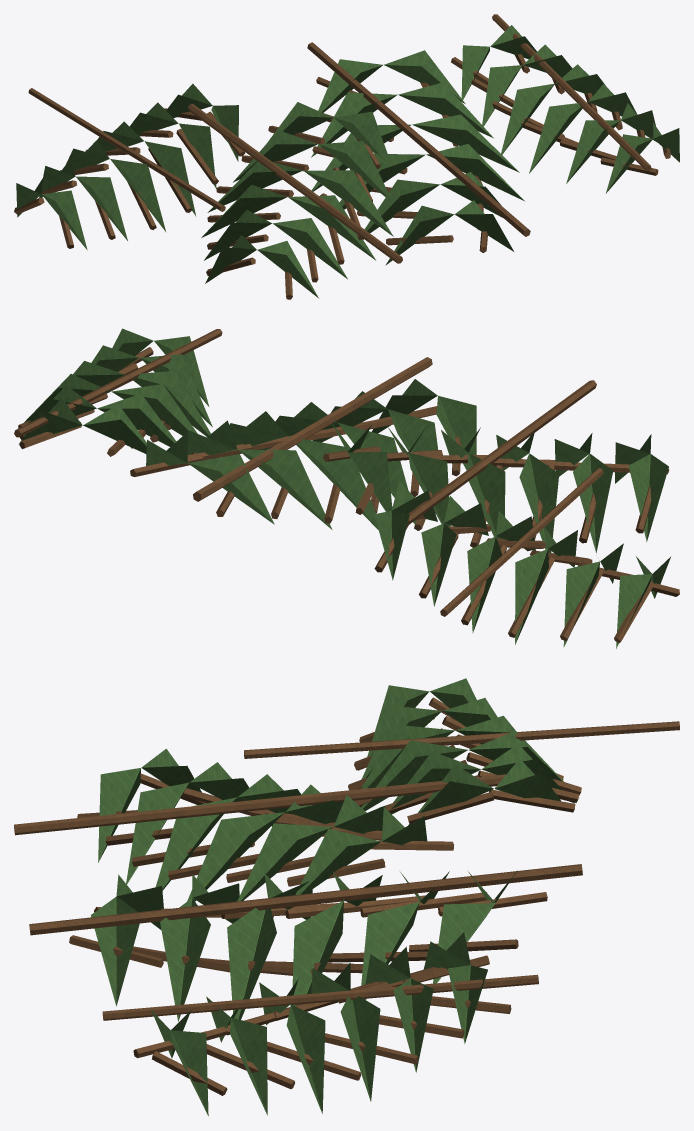
Rendered from en-008_palm_frond_ground_clutter__small.obj.
3 views of the same model, one above another, from view 1: azimuth 30°, elevation 25°; view 2: azimuth 150°, elevation 25°; view 3: azimuth 270°, elevation 25° (orthographic). The views are drawn at different scales.
Visible parts, largest first — view 1: en-008_palm_frond_ground_clutter__small; view 2: en-008_palm_frond_ground_clutter__small; view 3: en-008_palm_frond_ground_clutter__small.
Part boxes in pixels (<box>): en-008_palm_frond_ground_clutter__small: <box>14,14,679,299</box>; en-008_palm_frond_ground_clutter__small: <box>14,328,679,648</box>; en-008_palm_frond_ground_clutter__small: <box>14,678,679,1116</box>.
Bounding box in the file's own units: 1.26 × 0.1961 × 0.939.
Materials: 2 (2 with a texture image).
